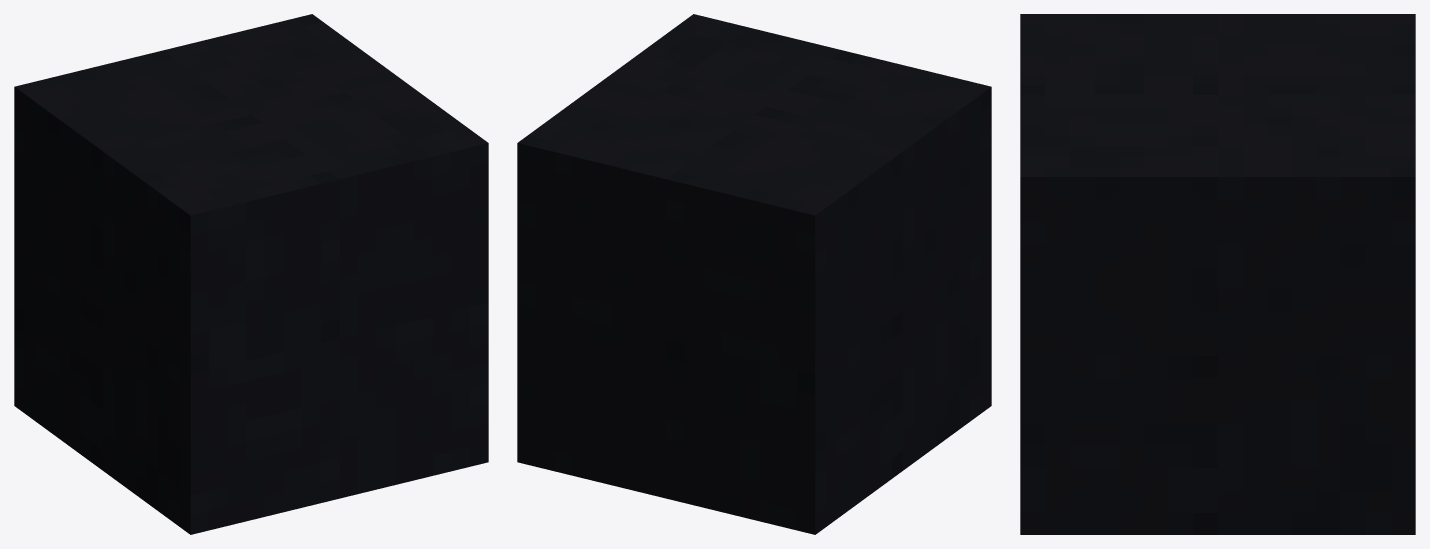
3 views of the same model, side by side, from view 1: azimuth 30°, elevation 25°; view 2: azimuth 150°, elevation 25°; view 3: azimuth 270°, elevation 25° (orthographic). The views are drawn at different scales.
Parts seen in each view (by area): view 1: Remeshed_Object; view 2: Remeshed_Object; view 3: Remeshed_Object.
Boxes of the visible parts, x1,y1,x2,y2 form: Remeshed_Object: [14, 14, 488, 534]; Remeshed_Object: [517, 14, 991, 534]; Remeshed_Object: [1020, 14, 1415, 534].
Bounding box in the file's own units: 3.1 × 3.17 × 3.17.
Materials: 1 (1 with a texture image).
